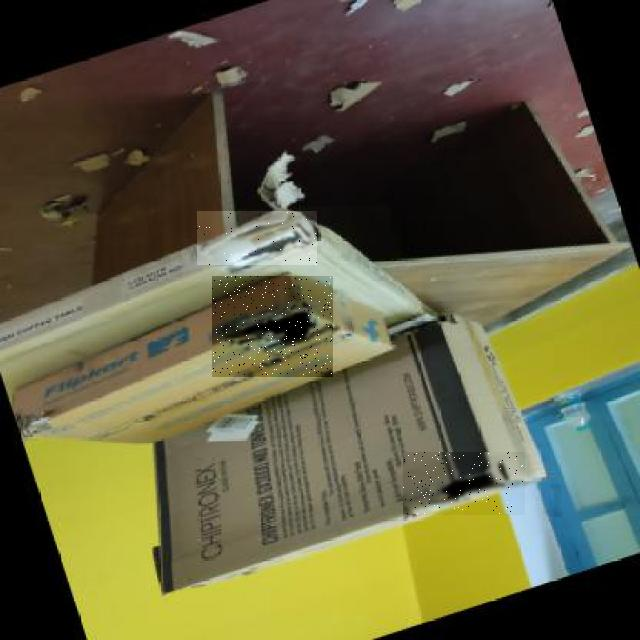leakage: (213, 277, 332, 375)
tear: (404, 452, 523, 514), (197, 213, 317, 265)
